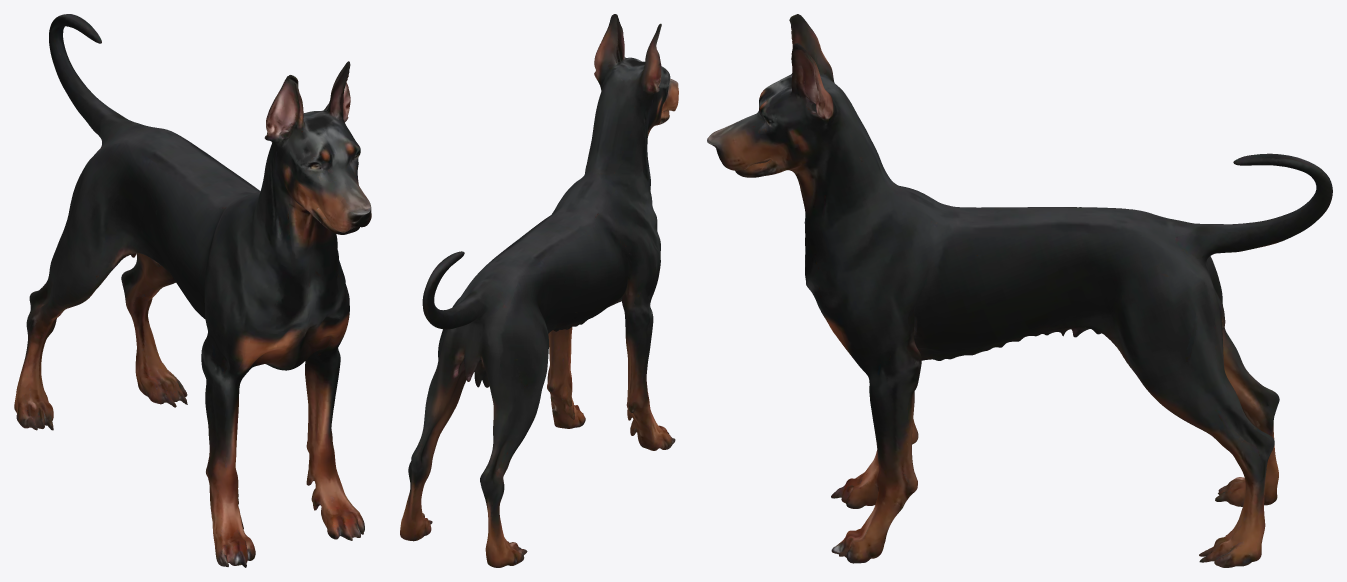
File: dog_doberman.glb
3 views of the same model, side by side, from view 1: azimuth 30°, elevation 25°; view 2: azimuth 150°, elevation 25°; view 3: azimuth 270°, elevation 25° (orthographic). The views are drawn at different scales.
Parts seen in each view (by area): view 1: Object_4; view 2: Object_4; view 3: Object_4.
Boxes of the visible parts, box(x1,y1,x2,y2) form: Object_4: box(14, 14, 371, 567); Object_4: box(400, 14, 678, 567); Object_4: box(707, 14, 1332, 567).
Size of the model in its own units: 0.5717 by 1.79 by 2.01.
Materials: 1 (1 with a texture image).
